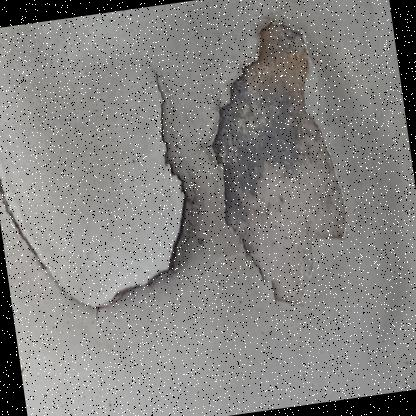Crack: (0, 0, 405, 365)
